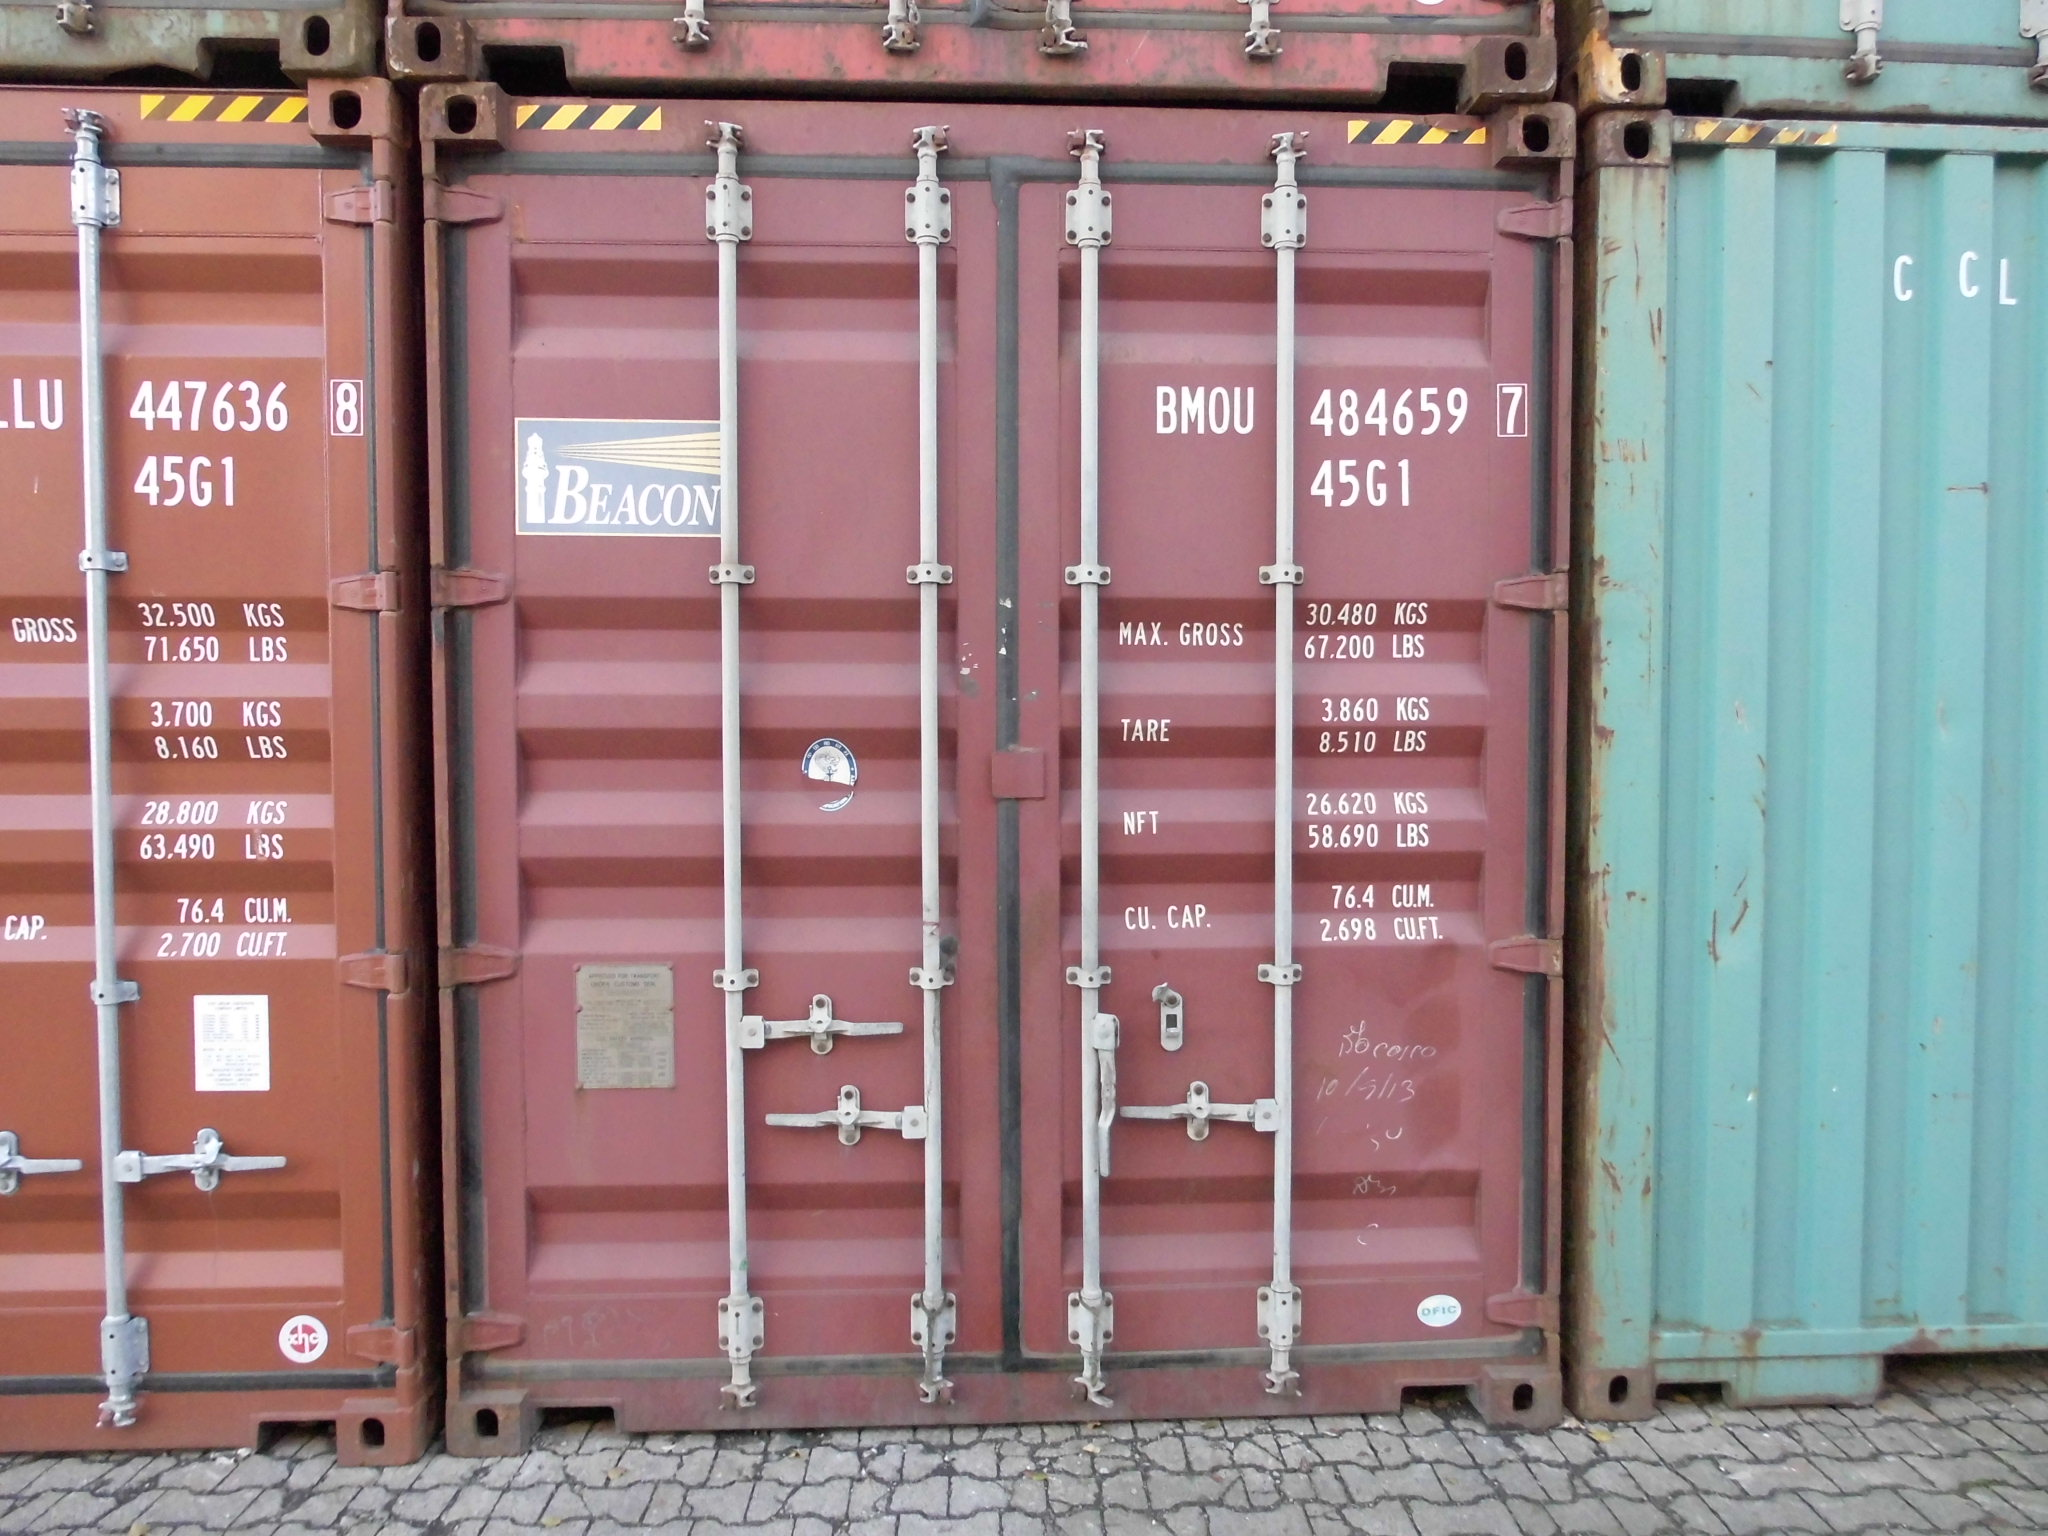container_door: (410, 74, 1564, 1438)
